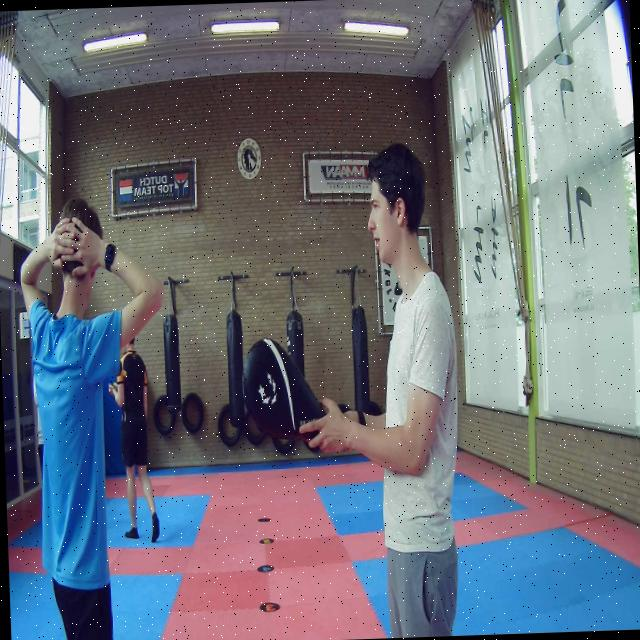paddle: (242, 337, 327, 441)
